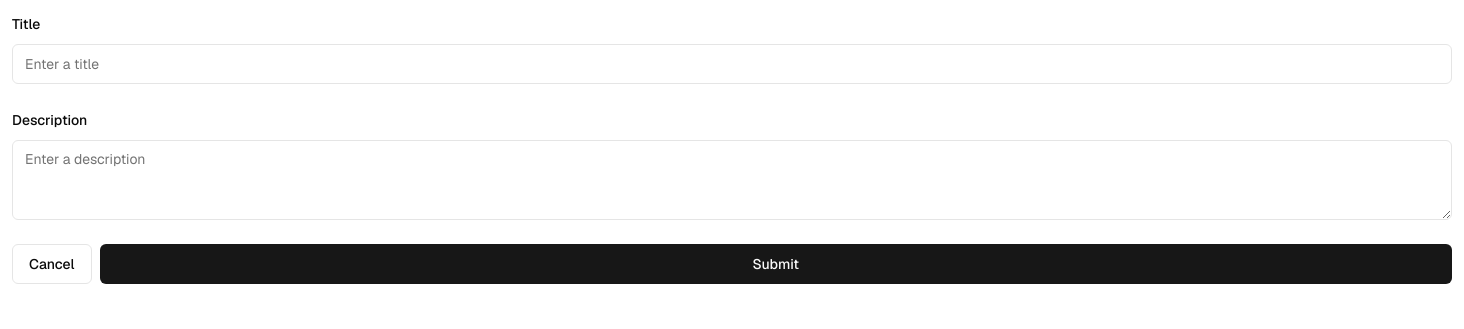
Test case: TaskForm › should validate title minimum length
This screenshot has width=1464, height=329.
Type "ab" into the field labelled "Title".
click(732, 64); type("ab")  # box [12, 44, 1452, 84]
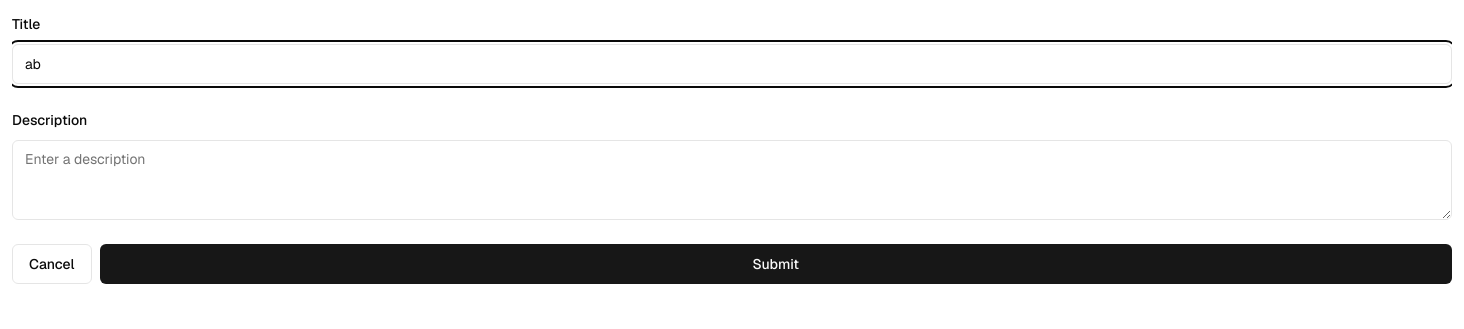
Click the button "Submit".
click(776, 264)  # box [100, 244, 1452, 284]
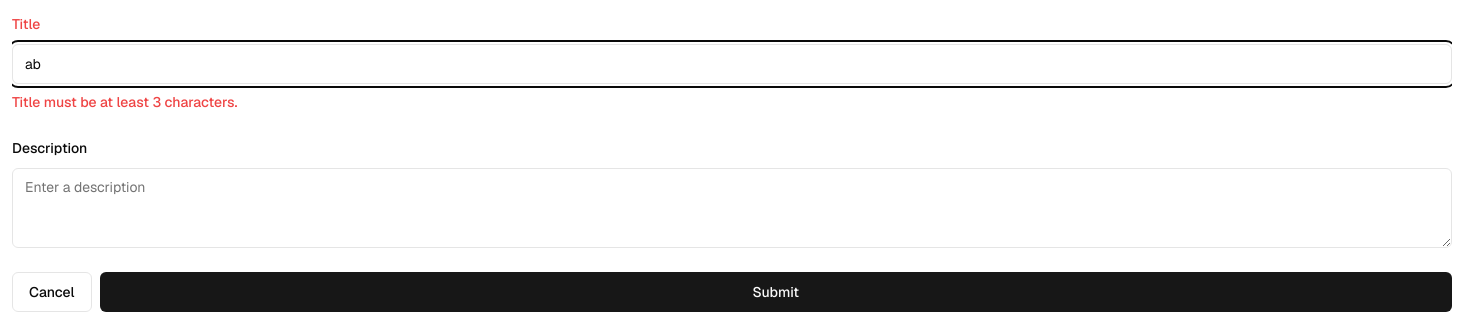
Result: the text "Title must be at least 3 characters." is shown at [12, 93, 238, 111]
